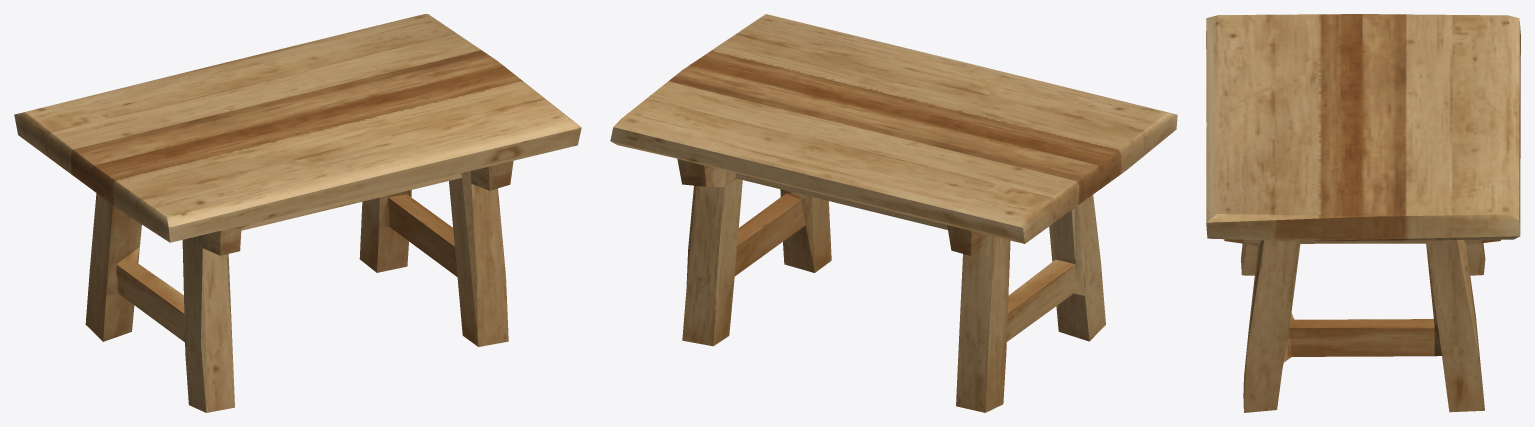
Rendered from table_lod0.glb.
3 renders of one model, left to right at view 1: azimuth 30°, elevation 25°; view 2: azimuth 150°, elevation 25°; view 3: azimuth 270°, elevation 25°, orthographic.
Parts seen in each view (by area): view 1: low; view 2: low; view 3: low.
Part boxes in pixels (x1,y1,x2,y2): low: (14,14,581,412); low: (610,14,1177,412); low: (1206,14,1520,412).
Bounding box in the file's own units: 1.79 × 0.9159 × 1.17.
1 material, 1 textured.
